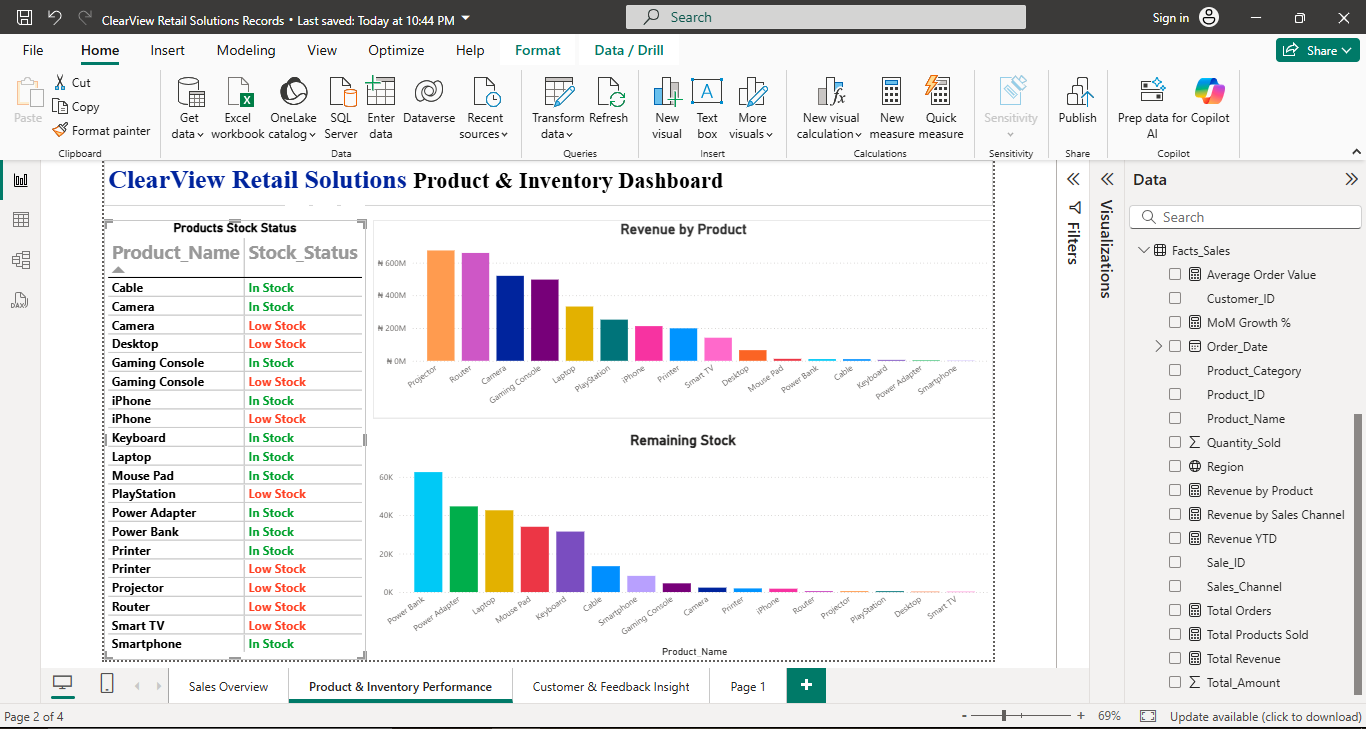

This screenshot's page, from the dashboard's own definition file:
{"tool":"powerbi","page":{"name":"Product & Inventory Performance","canvas":[1280,720],"ordinal":1},"visuals":[{"type":"textbox","box":[0,0,1280.2,86.4],"z":0},{"type":"textbox","box":[0,0,1280.2,66.2],"z":1000},{"type":"columnChart","title":"Revenue by Product ","fields":{"Category":["Facts_Sales.Product_Name"],"Y":["Facts_Sales.Total Revenue"],"Series":["Dim_Products.Product_Name"]},"box":[387.4,86.9,892.6,285.8],"z":2000},{"type":"columnChart","title":"Remaining Stock ","fields":{"Category":["Dim_Products.Product_Name"],"Y":["Dim_Products.Remaining Stock"],"Series":["Dim_Products.Product_Name"]},"box":[387.4,391.8,892.6,328.5],"z":3000},{"type":"tableEx","title":"Products Stock Status","fields":{"Values":["Dim_Products.Product_Name","Dim_Products.Stock_Status"]},"box":[0,86.9,377.1,633.4],"z":4000}]}

Visuals, with their boxes on the page's 1280x720 design canvas (x1, y1, x2, y2). These are canvas units, not pixel positions in the 1366x729 screenshot, which may show the page scaled, cropped or inside an application window:
textbox: <region>0, 0, 1280, 86</region>
textbox: <region>0, 0, 1280, 66</region>
"Revenue by Product " columnChart: <region>387, 87, 1280, 373</region>
"Remaining Stock " columnChart: <region>387, 392, 1280, 720</region>
"Products Stock Status" tableEx: <region>0, 87, 377, 720</region>
